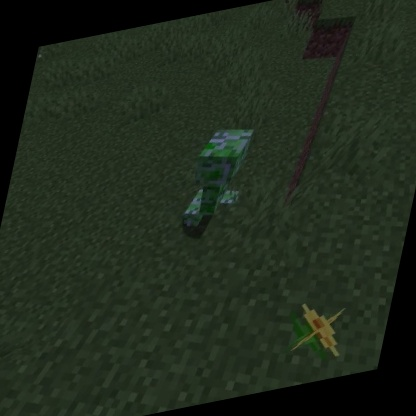creeper: (177, 118, 259, 234)
